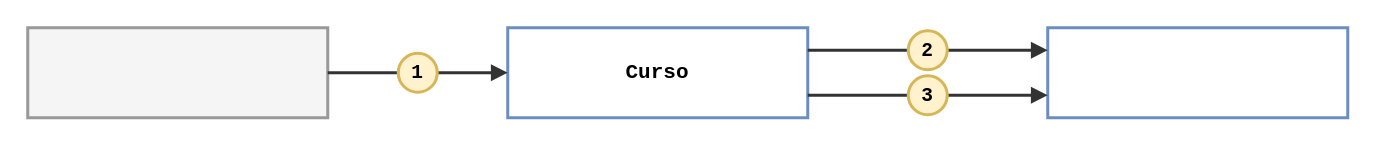
Some shapes in this 1374 by 144 pixel diagram are drawn without their labels. The centre of each missing label's shape, as x and y in pixels:
"Estudiante" belongs at [1197,72].
"programa principal" belongs at [177,72].
